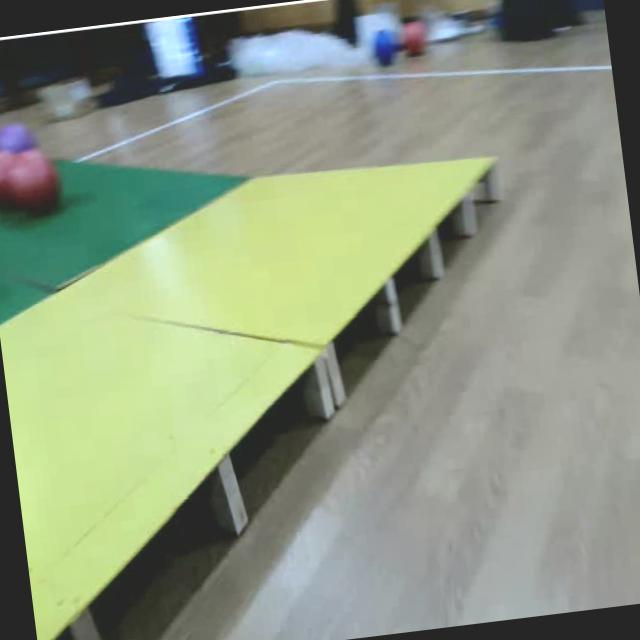blue_ball: (0, 118, 42, 176), (366, 24, 401, 72)
red_ball: (10, 143, 64, 224), (0, 146, 22, 216), (400, 18, 430, 58)
